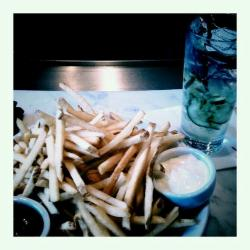fries: (23, 109, 183, 237)
ketchup: (14, 188, 55, 238)
